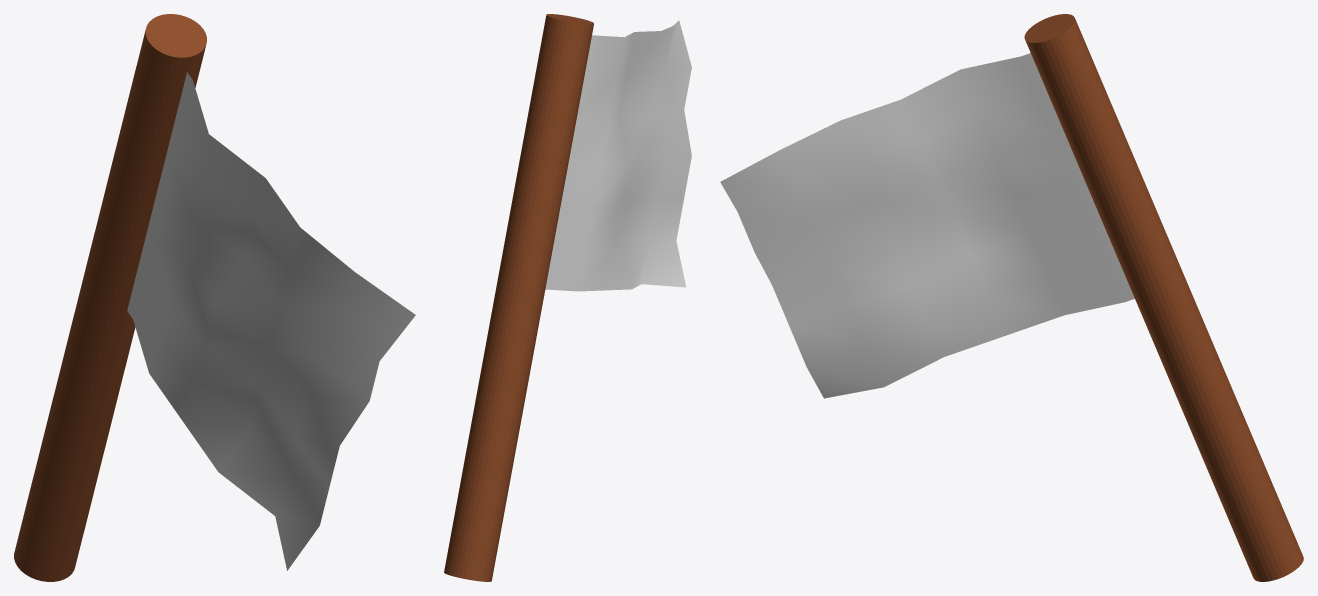
File: flag.glb
3 renders of one model, left to right at view 1: azimuth 30°, elevation 25°; view 2: azimuth 150°, elevation 25°; view 3: azimuth 270°, elevation 25°, orthographic. The views are drawn at different scales.
Visible parts, largest first — view 1: Plane, Cylinder; view 2: Plane, Cylinder; view 3: Plane, Cylinder.
Boxes of the visible parts, left/top/right/bottom form: Plane: left=127, top=72, right=415, bottom=570; Cylinder: left=14, top=14, right=206, bottom=581; Plane: left=545, top=20, right=691, bottom=291; Cylinder: left=444, top=14, right=593, bottom=581; Plane: left=720, top=53, right=1134, bottom=398; Cylinder: left=1024, top=14, right=1303, bottom=581.
Bounding box in the file's own units: 0.9224 × 7.34 × 6.98.
